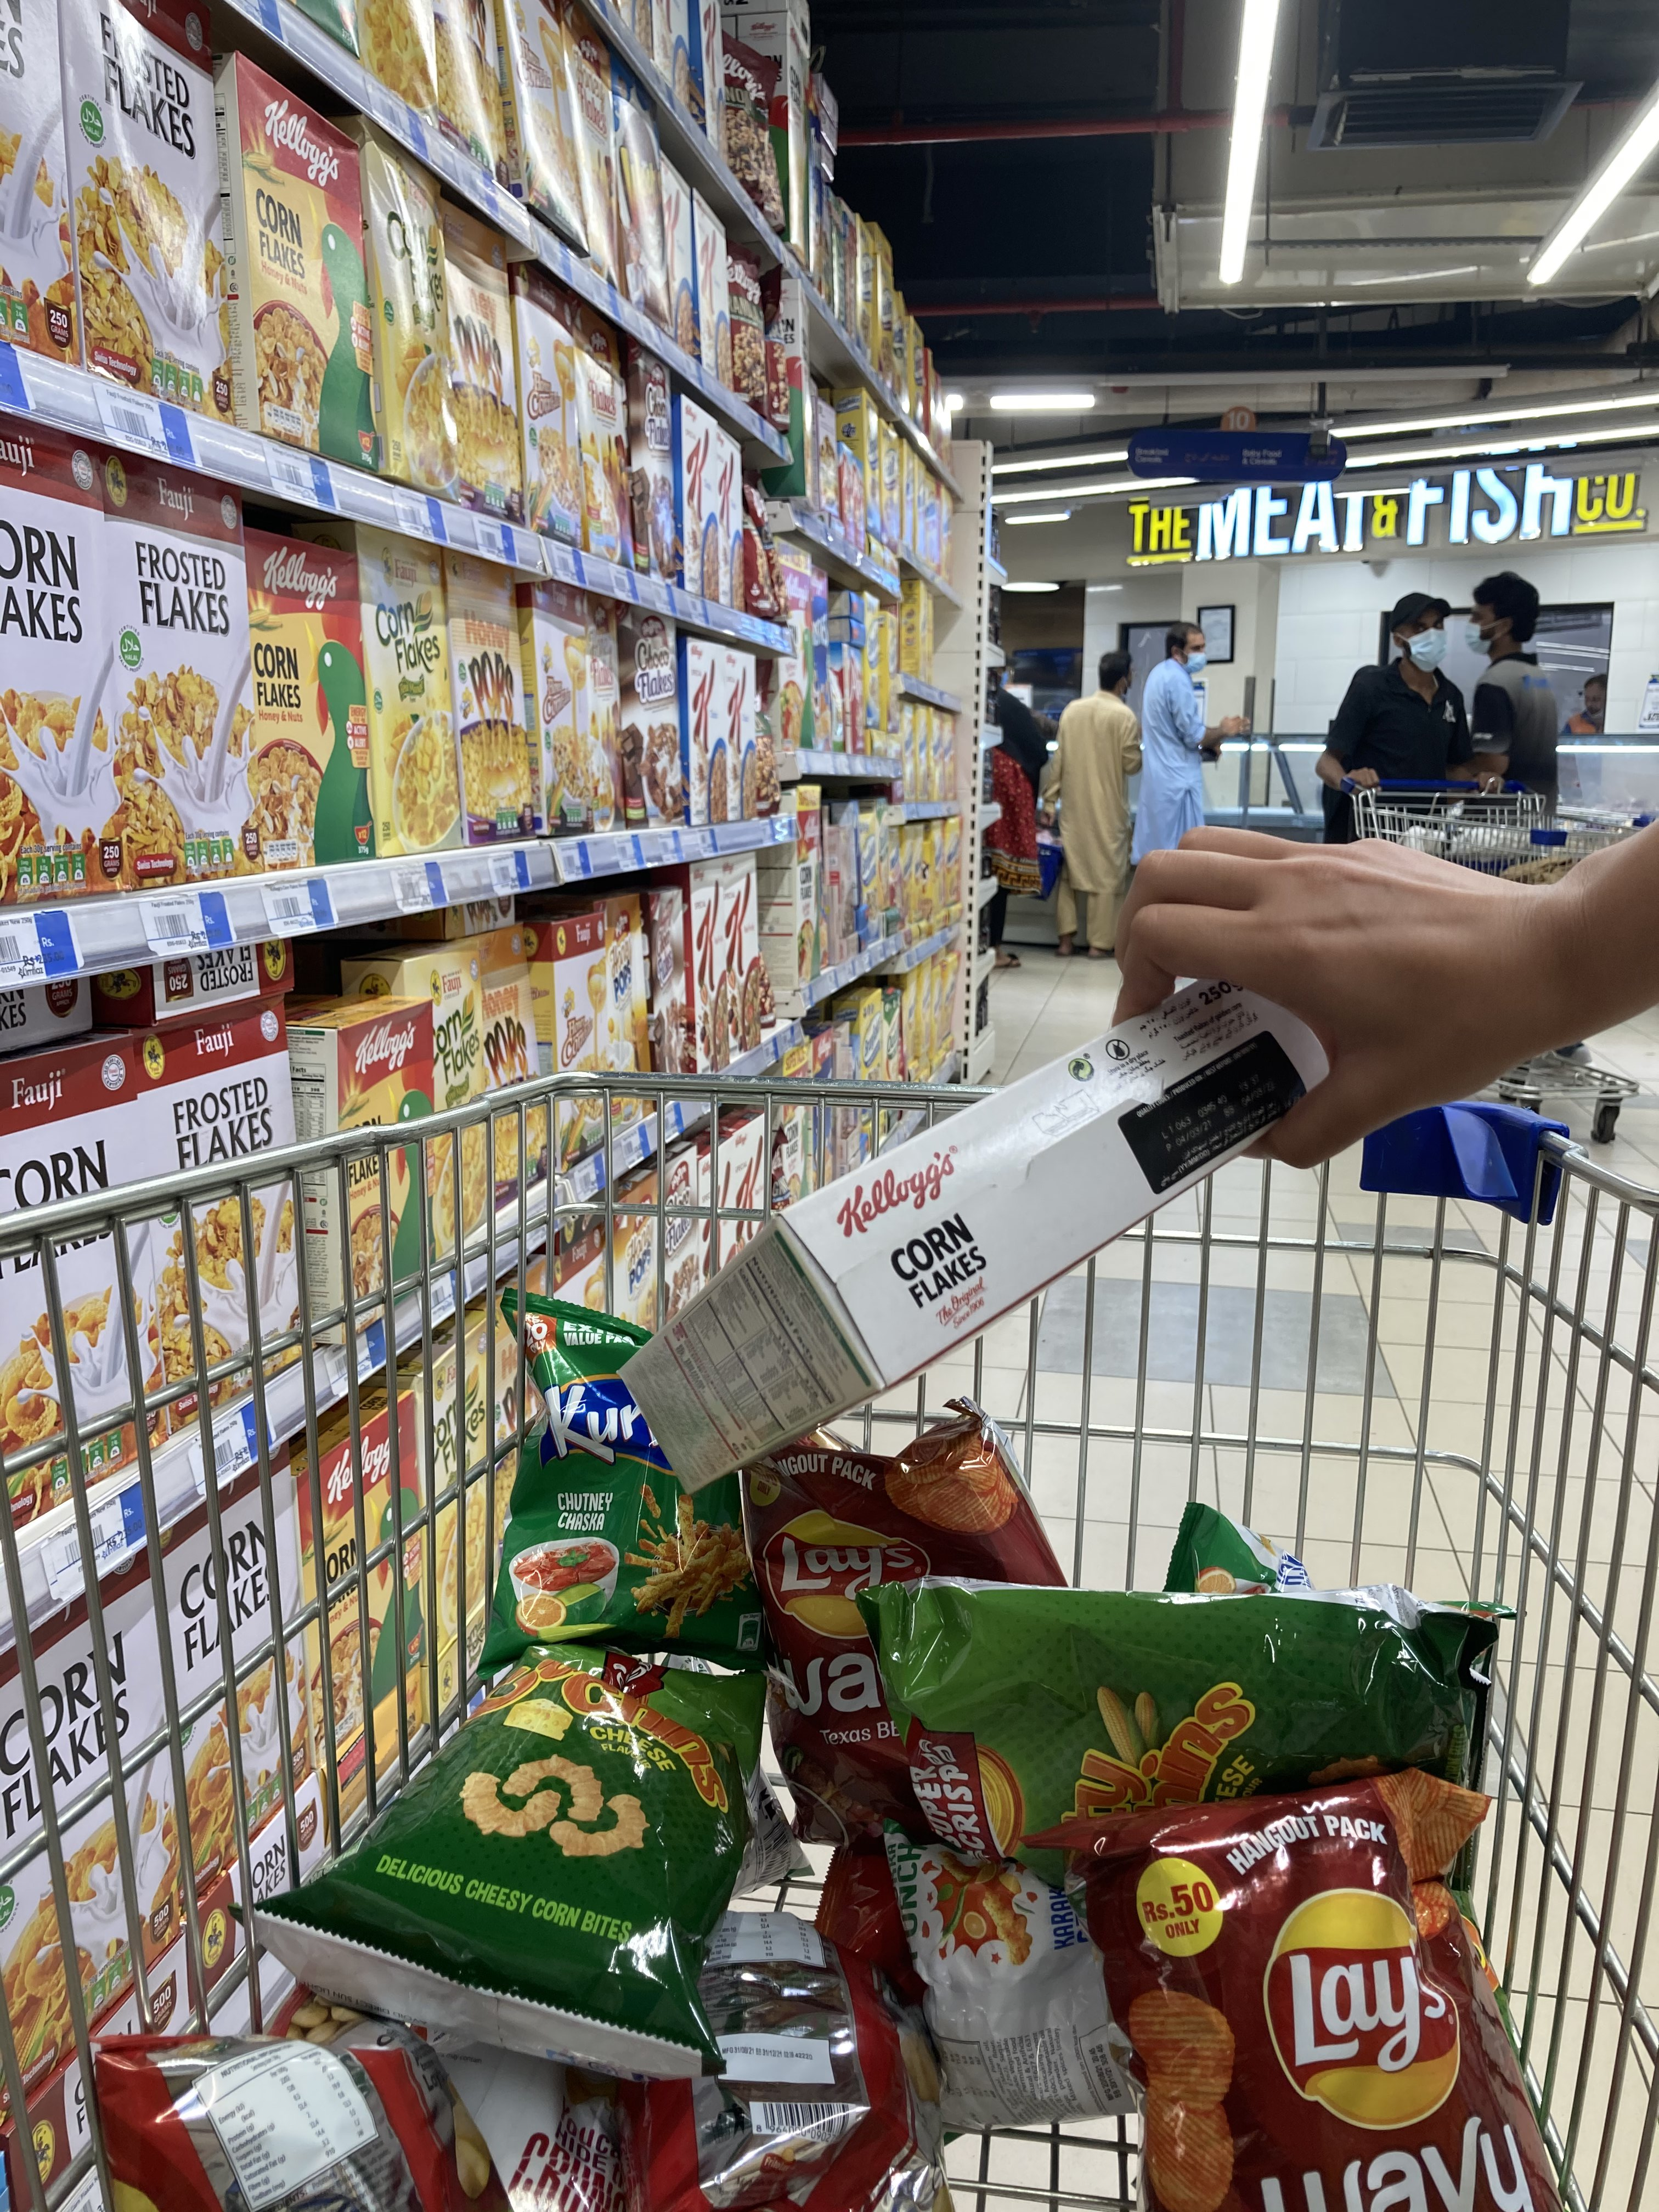Kellogg's Corn Flakes: (615, 975, 1284, 1489)
